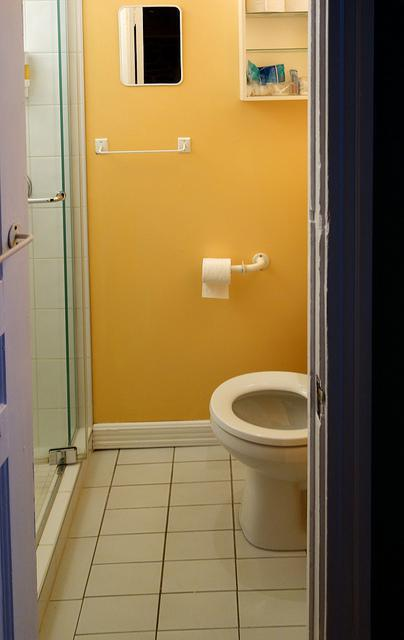Ducha: (0, 14, 80, 618)
Sanitario: (204, 353, 403, 559)
